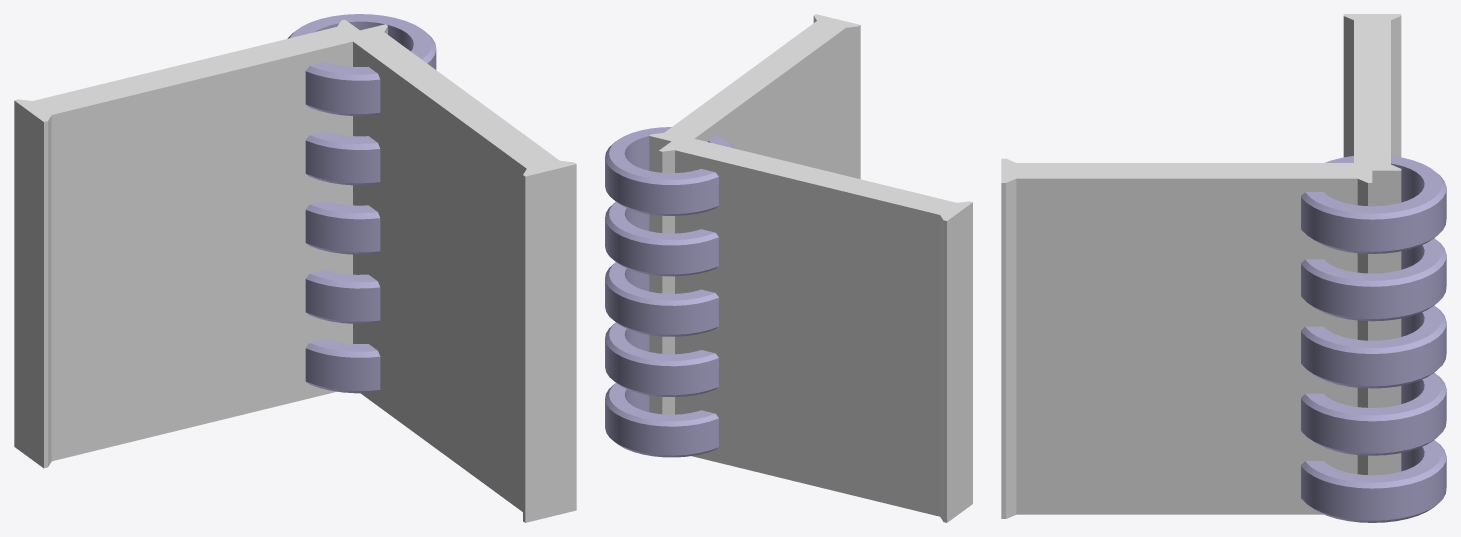
File: wall_corners_one.fbx
3 views of the same model, side by side, from view 1: azimuth 30°, elevation 25°; view 2: azimuth 150°, elevation 25°; view 3: azimuth 270°, elevation 25° (orthographic). The views are drawn at different scales.
Parts seen in each view (by area): view 1: pCube134; view 2: pCube134; view 3: pCube134.
Part boxes in pixels (left/top/right/bottom): pCube134: left=14, top=14, right=576, bottom=522; pCube134: left=605, top=14, right=972, bottom=522; pCube134: left=1001, top=14, right=1446, bottom=522.
Size of the model in its own units: 6 by 5 by 6.
